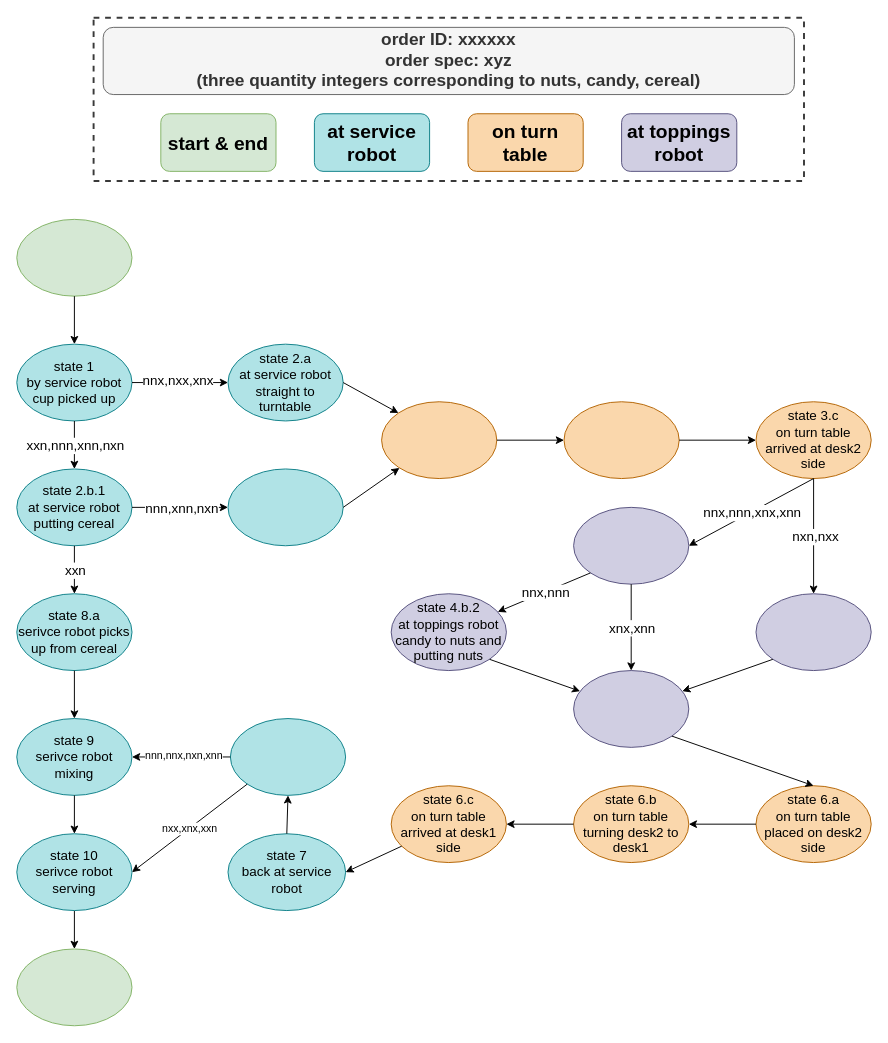
The diagram is 888 pixels wide and 1043 high, and some of its shapes have lost their labels. The shapes that lost their labels are listed below. From the top down, each one's centre as x and y in pixels, then its label:
At point (74, 257): "state 0 order initiated".
At point (439, 440): "state 3.a on turn table placed on desk1 side".
At point (621, 440): "state 3.b on turn table turning desk1 to desk2".
At point (285, 507): "state 2.b.2 at service robot cereal to turntable".
At point (631, 545): "state 4.b.1 at toppings robot passing to and putting candy".
At point (813, 632): "state 4.a at toppings robot passing to and putting nuts".
At point (631, 708): "state 5 at toppings robot passing to turntable".
At point (287, 756): "state 8.b serivce robot picks up from turn table".
At point (74, 987): "state 11 order served".
